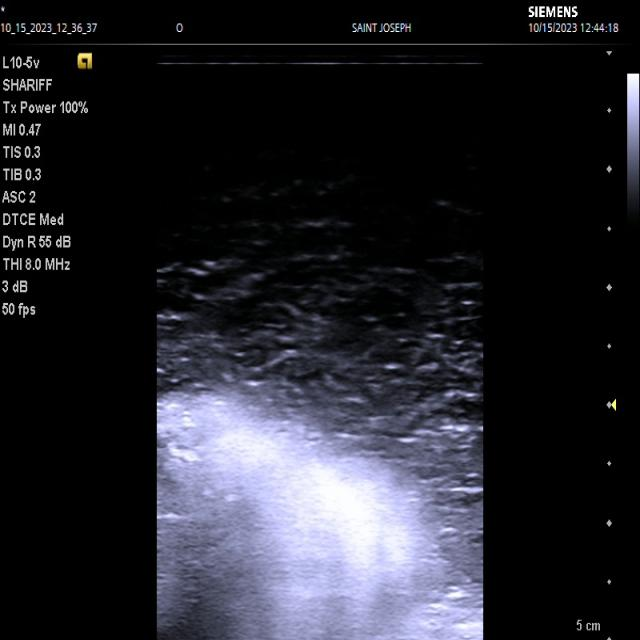tissue: (157, 393, 473, 640)
